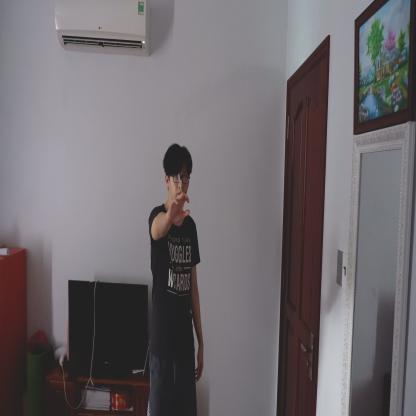cigarette: (178, 173, 182, 195)
person: (147, 143, 207, 415)
